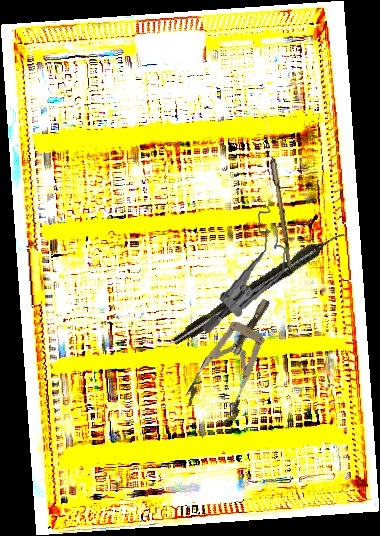Handpiece: (169, 225, 348, 350)
Speculum: (181, 287, 292, 430), (201, 200, 293, 341)
Surgical Spoon: (262, 120, 295, 269)
